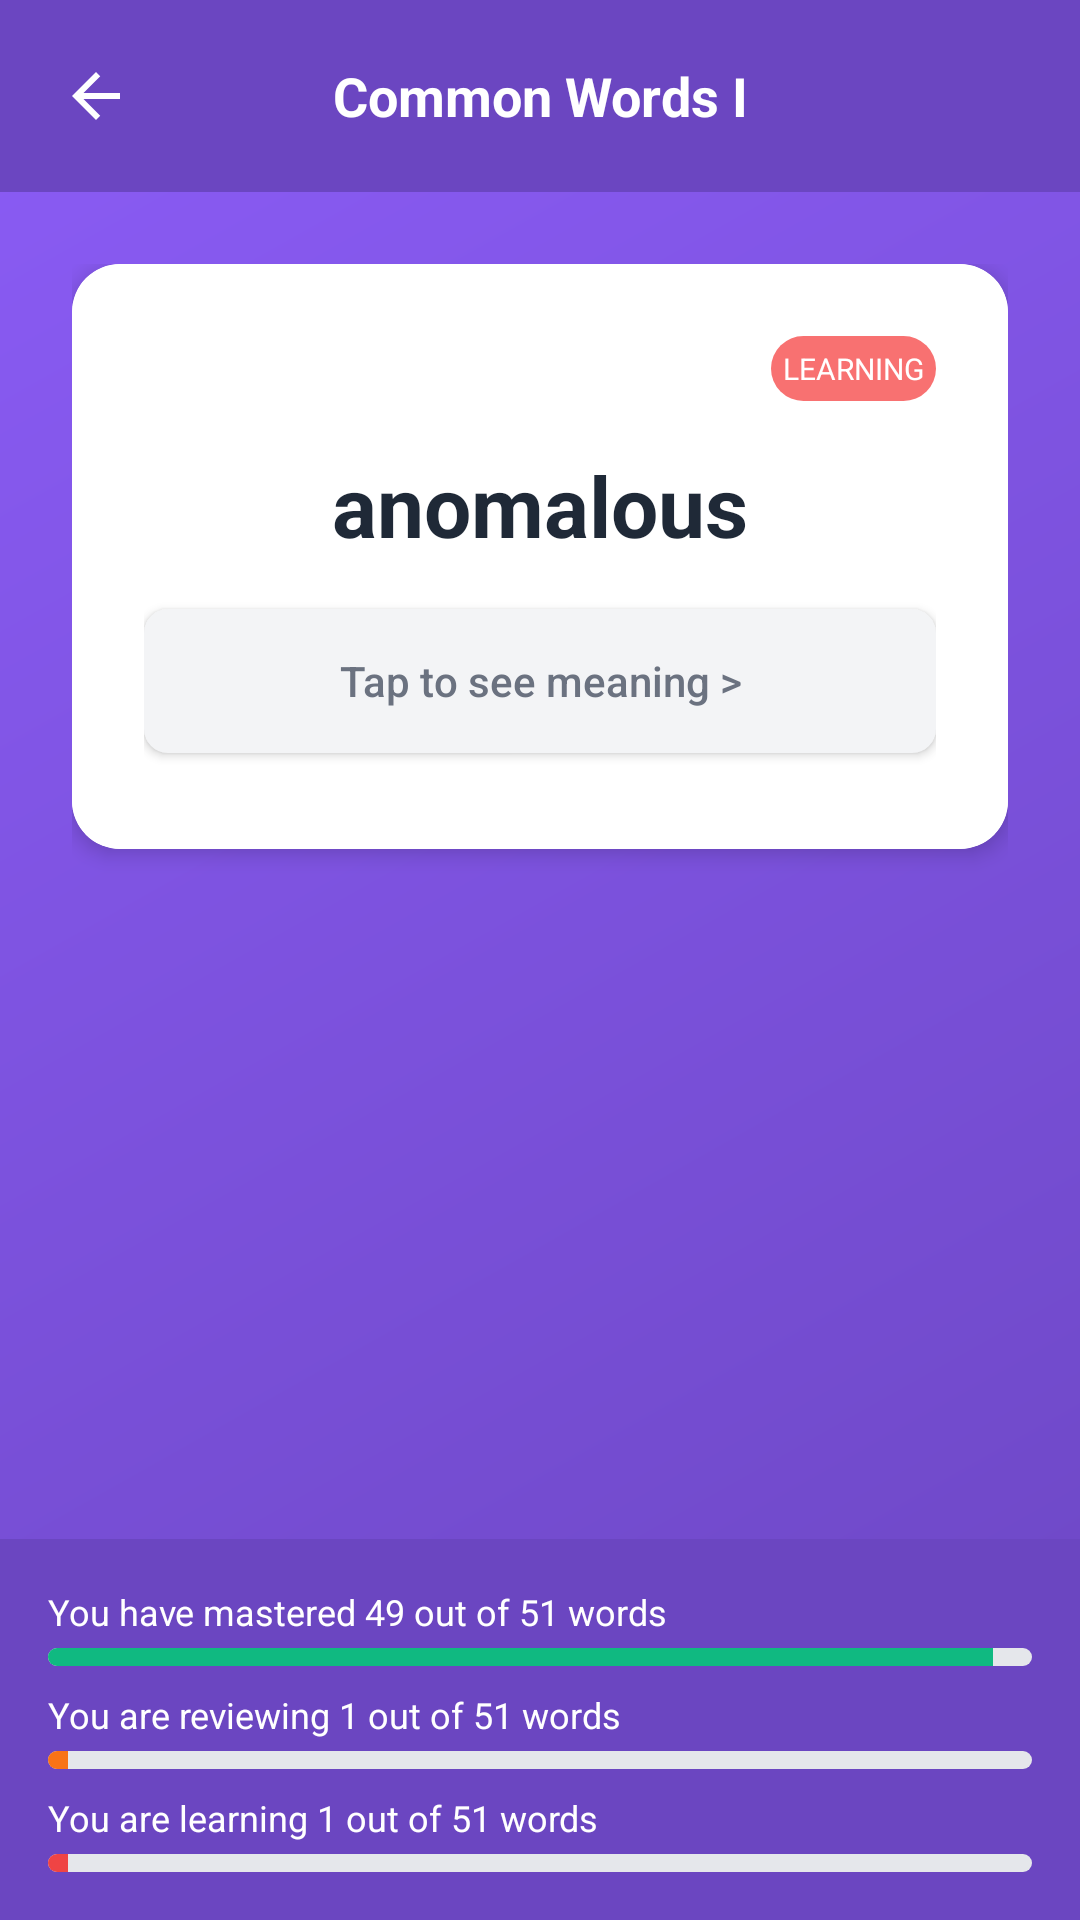

Icon bounding boxes for this 1080px×1920px phone screenshot, format [left=x1, top=y1, right=x2, bottom=y2]:
Back: [left=72, top=72, right=120, bottom=120]
